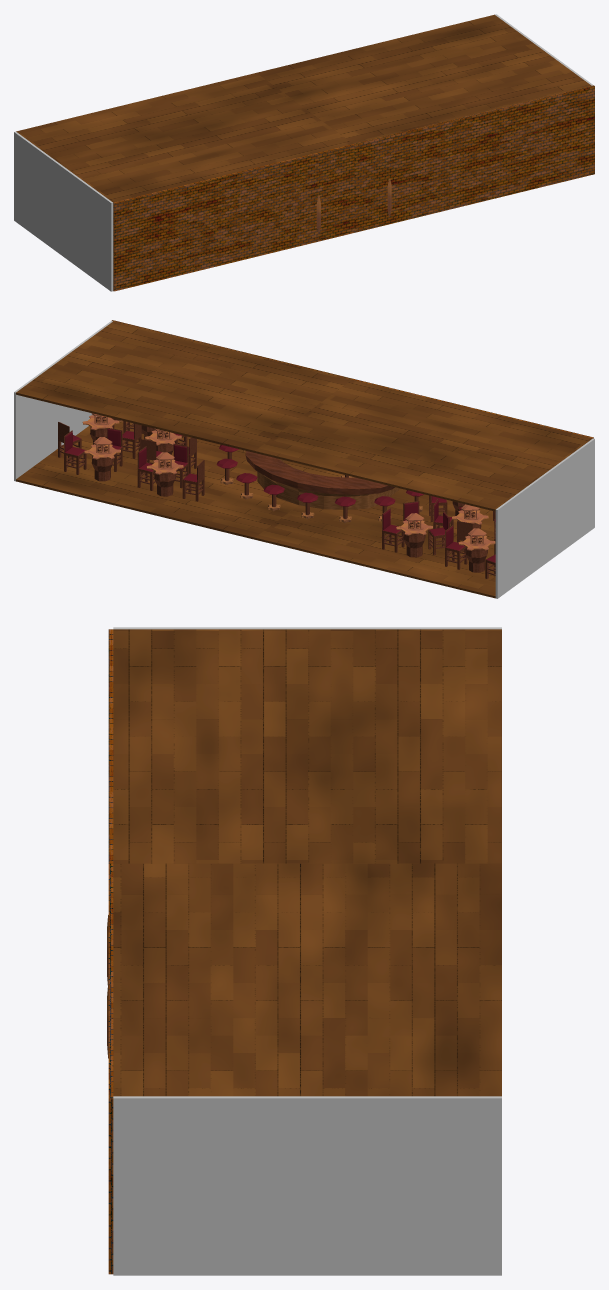
Rendered from Enterance.fbx.
3 renders of one model, top to bottom at view 1: azimuth 30°, elevation 25°; view 2: azimuth 150°, elevation 25°; view 3: azimuth 270°, elevation 25°, orthographic. The views are drawn at different scales.
Visible parts, largest first — view 1: Cube.001, BackWall, SideWall2; view 2: Cube.001, Ground, SideWall2, Counter, SideWall1, BackWall, Chair.016, Chair.009, Chair.013, Chair.010, Chair.015, Chair.014 (+7 smaller); view 3: Cube.001, SideWall1, BackWall, SideWall2.
Boxes of the visible parts, x1,y1,x2,y2 form: Cube.001: (16, 14, 591, 202); BackWall: (113, 85, 594, 291); SideWall2: (14, 131, 113, 291); Cube.001: (16, 321, 592, 511); Ground: (16, 421, 495, 598); SideWall2: (495, 438, 594, 598); Counter: (245, 451, 400, 509); SideWall1: (14, 321, 112, 481); BackWall: (111, 320, 593, 438); Chair.016: (64, 430, 86, 474); Chair.009: (445, 525, 467, 569); Chair.013: (182, 460, 204, 501); Chair.010: (382, 508, 404, 552); Chair.015: (137, 446, 155, 490); Chair.014: (173, 444, 188, 488); Cube.001: (113, 629, 501, 1096); SideWall1: (113, 1096, 501, 1275); BackWall: (108, 629, 113, 1274); SideWall2: (113, 627, 501, 629).
Bounding box in the file's own units: 1551 × 272 × 550.
